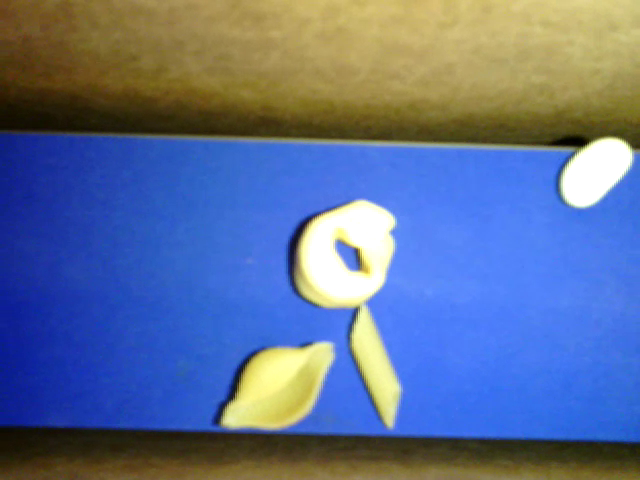penne: (350, 304, 399, 428)
shell: (220, 340, 336, 430)
tortellini: (292, 198, 396, 309)
